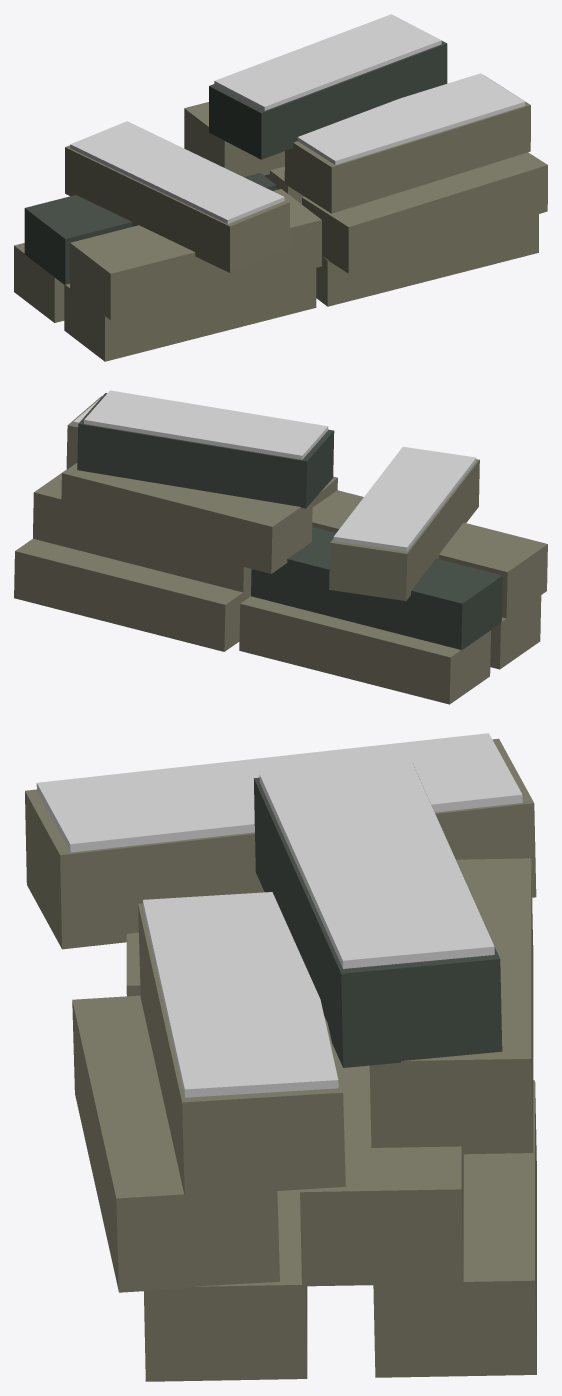
Rendered from Bricks_snow_mat.fbx.
3 renders of one model, top to bottom at view 1: azimuth 30°, elevation 25°; view 2: azimuth 150°, elevation 25°; view 3: azimuth 270°, elevation 25°, orthographic. The views are drawn at different scales.
Visible parts, largest first — view 1: Bricks_snow_mat; view 2: Bricks_snow_mat; view 3: Bricks_snow_mat.
Boxes of the visible parts, x1=… form: Bricks_snow_mat: x1=14, y1=14, x2=547, y2=361; Bricks_snow_mat: x1=14, y1=390, x2=547, y2=704; Bricks_snow_mat: x1=25, y1=733, x2=536, y2=1381.
Bounding box in the file's own units: 0.6862 × 0.2926 × 0.351.
